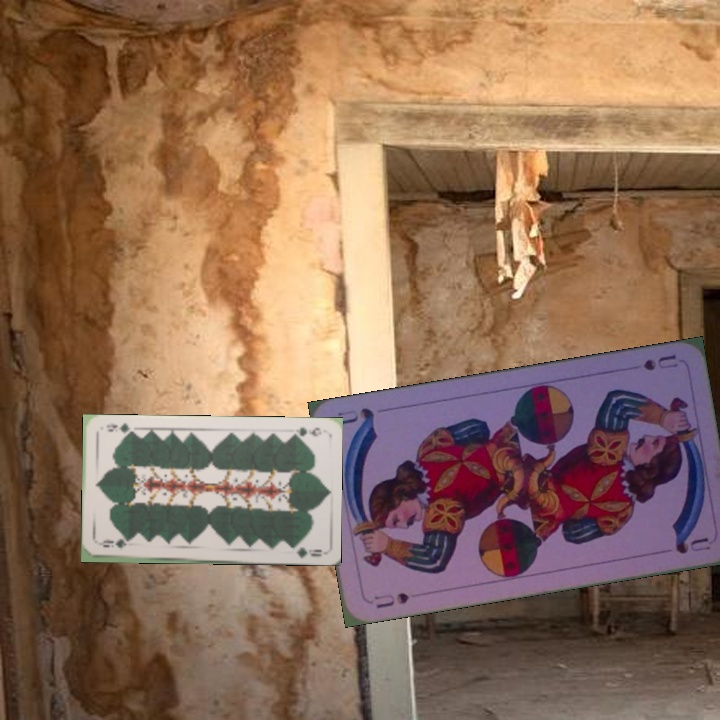G9: (286, 423, 324, 440), (96, 538, 129, 551)
SU: (639, 350, 681, 374), (370, 589, 411, 611)
